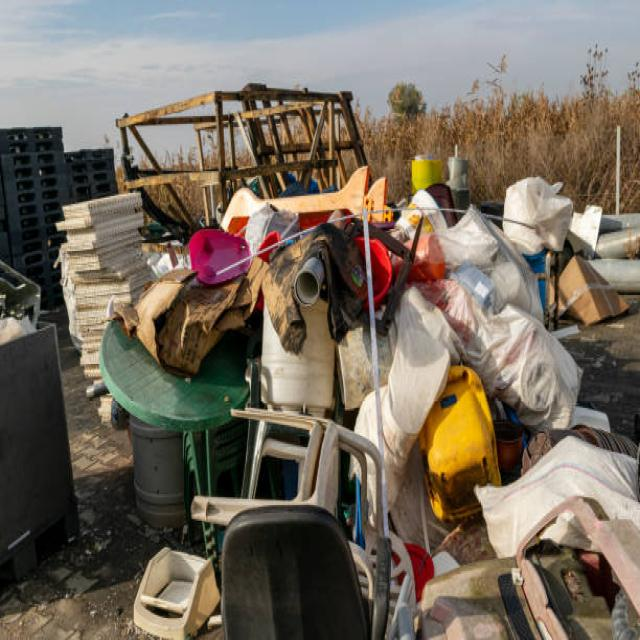plastic: (192, 212, 602, 640)
